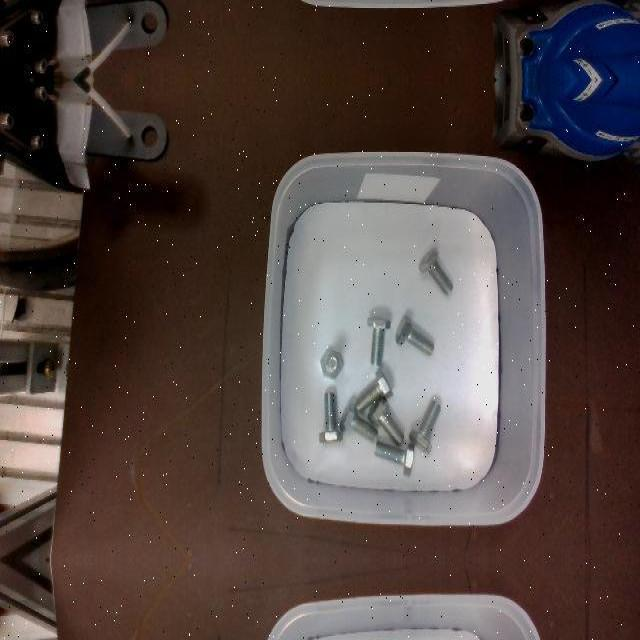screw: (367, 395, 404, 445), (418, 246, 453, 296), (354, 368, 392, 414), (408, 400, 440, 454), (395, 315, 434, 357), (339, 403, 377, 443), (375, 441, 414, 477), (318, 392, 342, 442), (366, 317, 390, 367), (320, 349, 343, 379)
